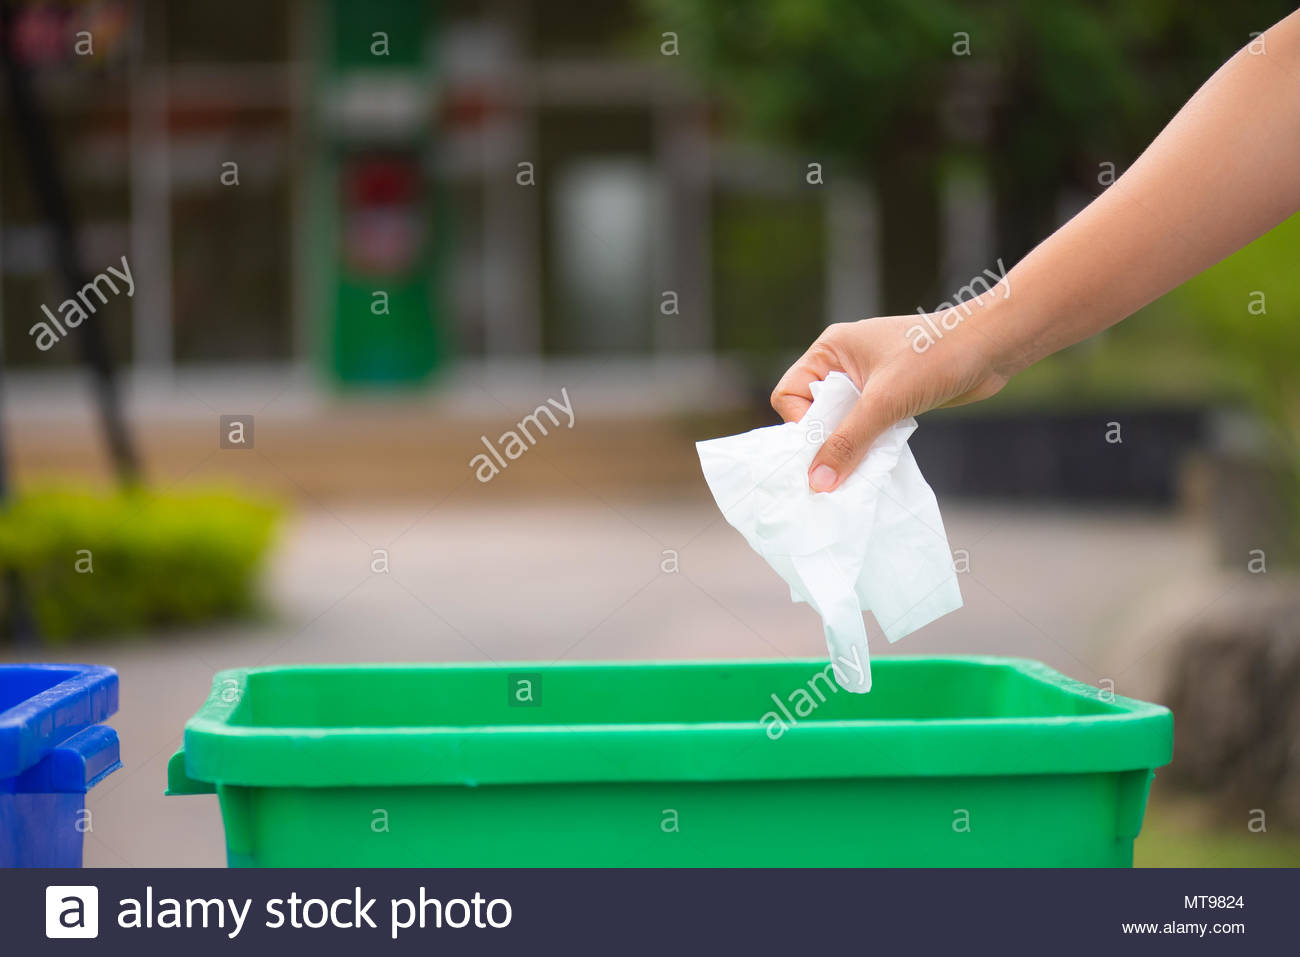Tissue: (700, 494, 981, 701)
